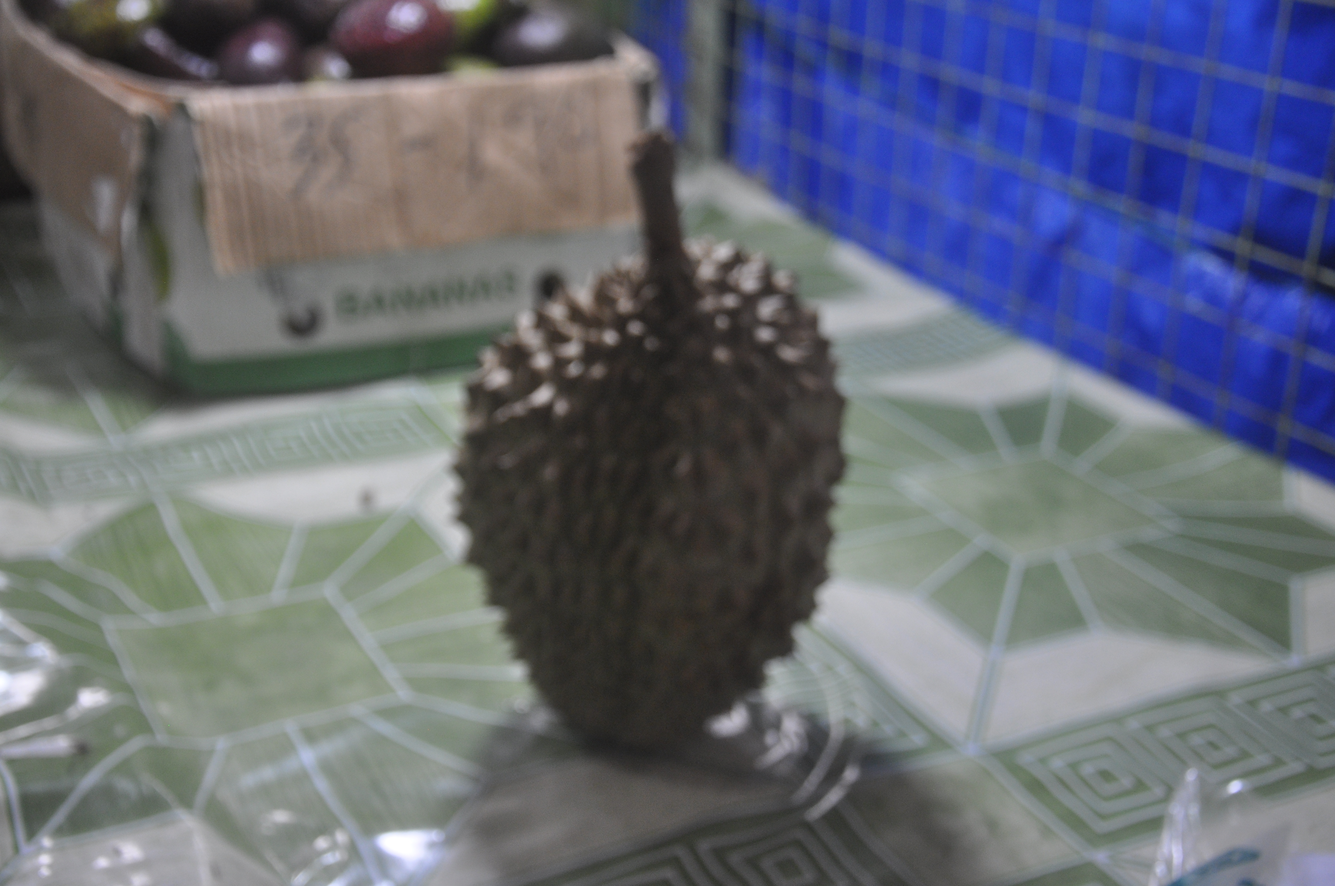mature: (457, 132, 844, 748)
